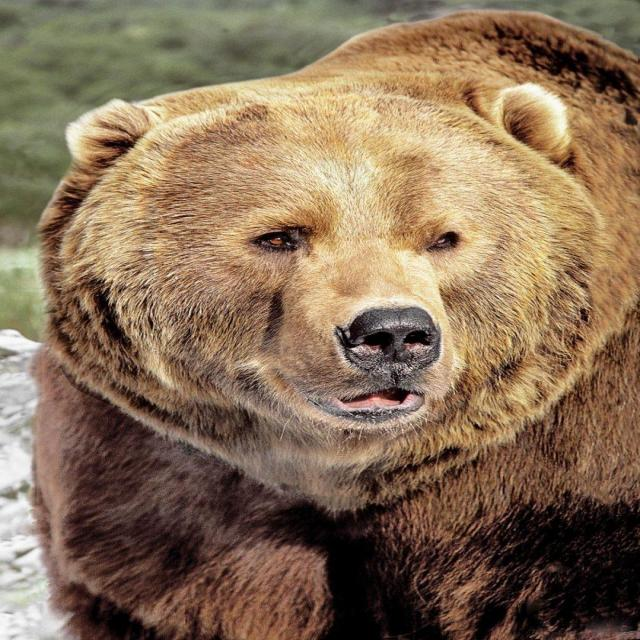Bear: (27, 10, 640, 640)
